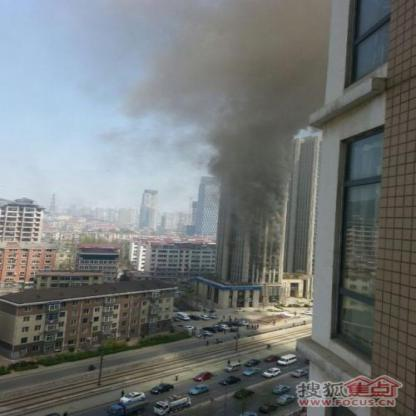smoke: (98, 3, 335, 114), (204, 120, 288, 228)
